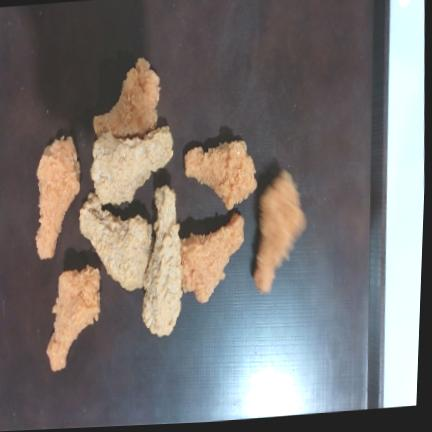chicken: (80, 193, 152, 290), (252, 170, 306, 293), (91, 126, 173, 204), (142, 185, 182, 337), (47, 265, 100, 371), (181, 213, 244, 302), (36, 136, 80, 258), (94, 58, 160, 138), (185, 141, 257, 210)
